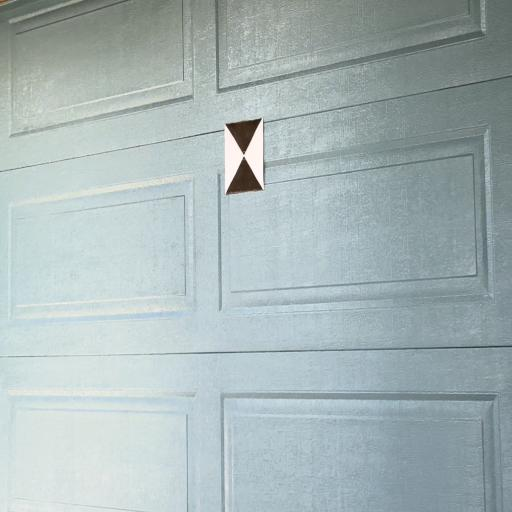target: (224, 119, 264, 194)
